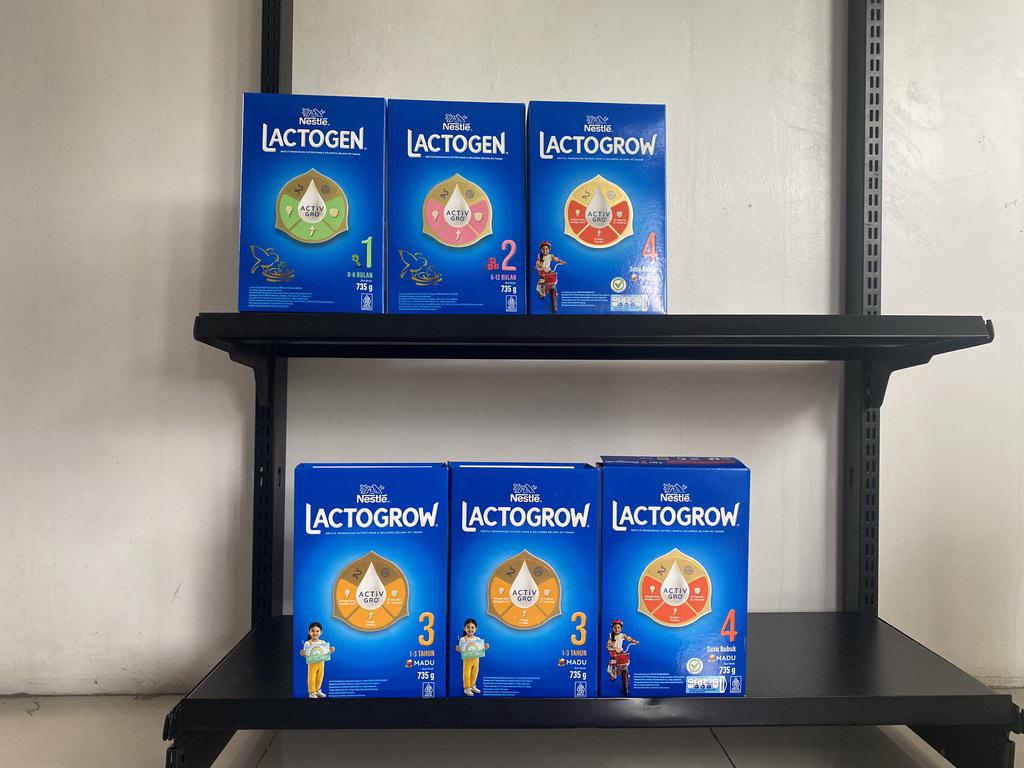LACTOGEN 1 Happynutri 12x750g N1 ID_REDESIGN2: (239, 92, 388, 314)
LACTOGEN 2 Happynutri 12x750g N1 ID_REDESIGN2: (385, 97, 530, 315)
LACTOGROW 3 Happynutri Honey 12x750g N1 ID_REDESIGN2: (286, 461, 450, 700), (445, 467, 602, 701)
